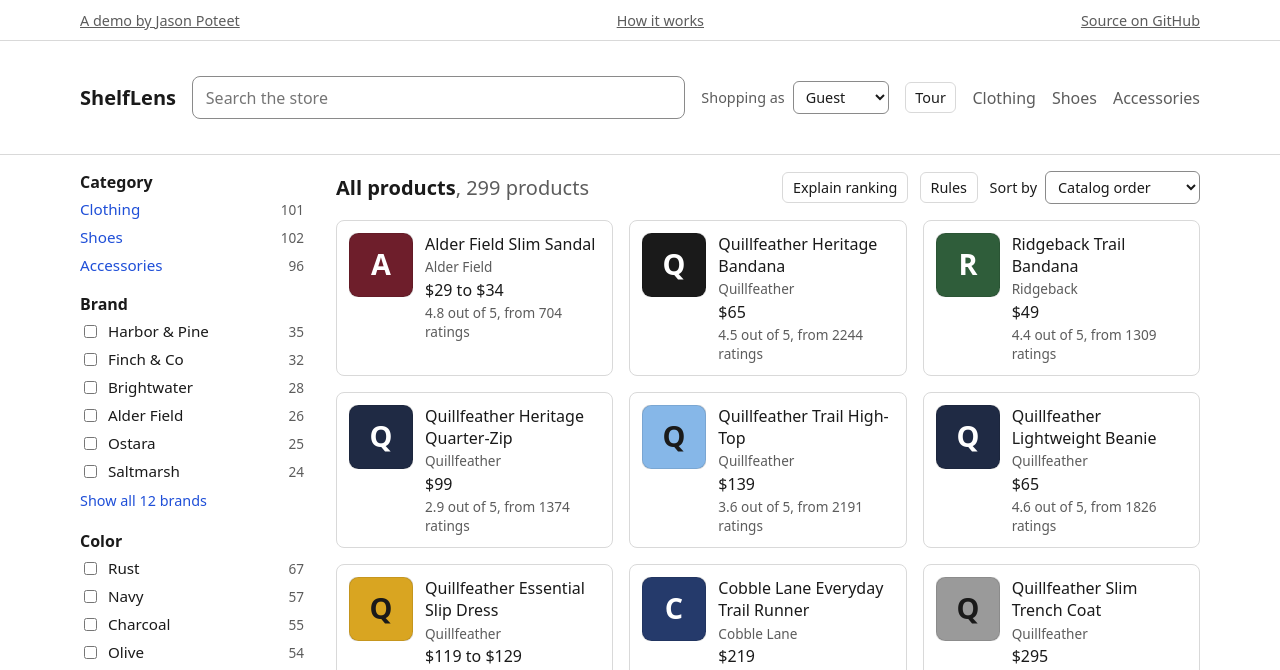
Scenario: browsing › steps into a category from the navigation, sorted by position, with a breadcrumb
Expected: the heading "All products, 299 products" is shown, [336, 174, 589, 201]
Click the link "Clothing" at (1004, 99), box [972, 83, 1036, 115]
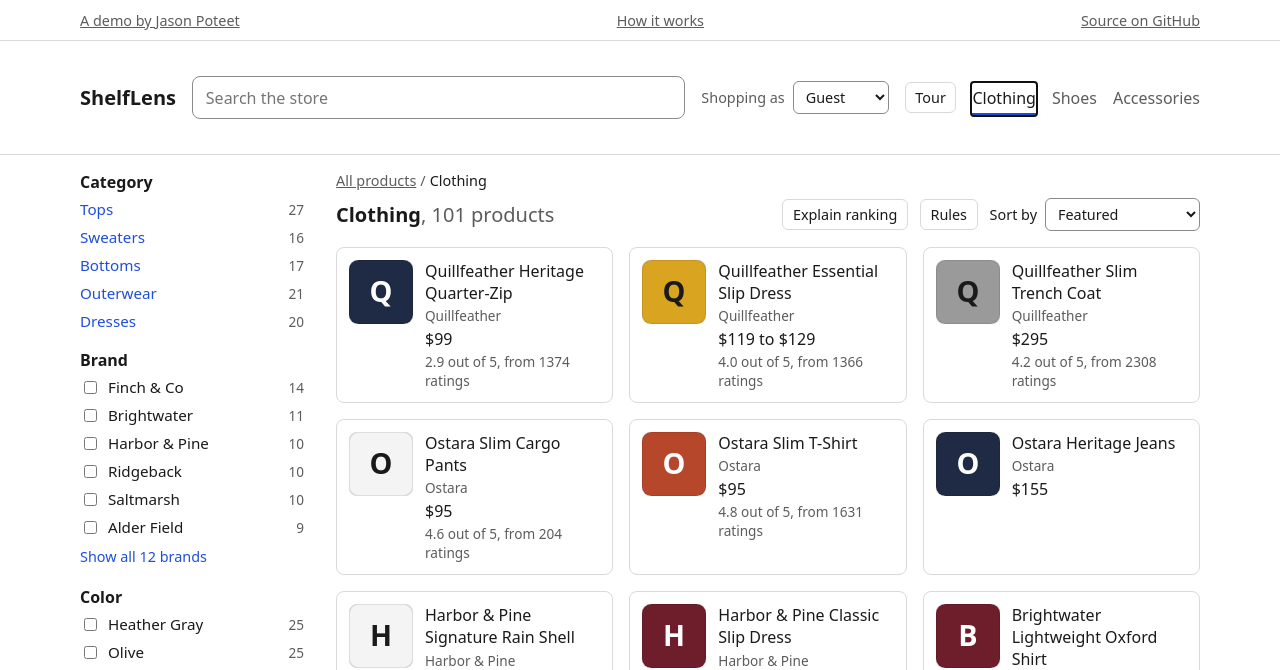
Now the dropdown labelled "Sort by" shows "Featured", box [1045, 198, 1200, 231]
